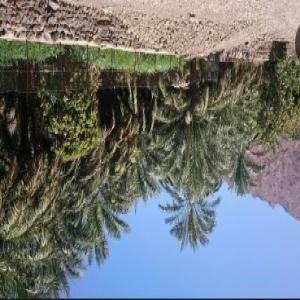palm tree: (0, 45, 298, 295)
